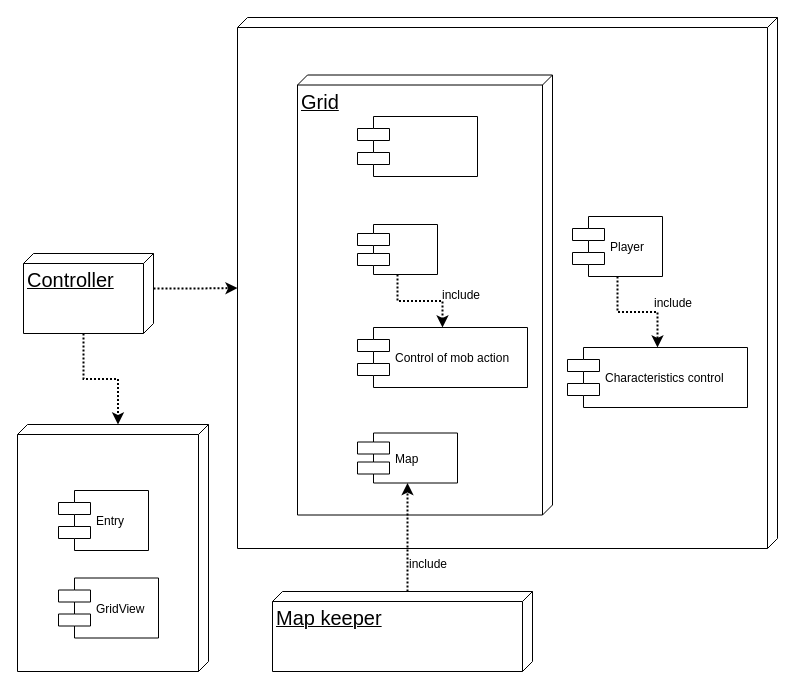
The diagram is 795 pixels wide and 689 high, and some of its shapes have lost their labels. The box of each missing label's shape, as (x1, y1, x2, y2) in pixels:
Artifact: (356, 116, 478, 176)
Mob: (356, 224, 438, 274)
Model: (236, 16, 778, 548)
UI: (16, 424, 208, 672)
